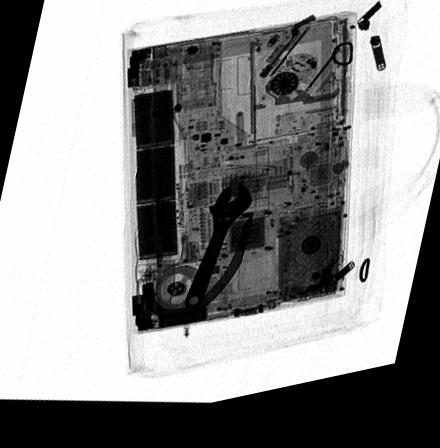Wrench: (183, 190, 254, 319)
